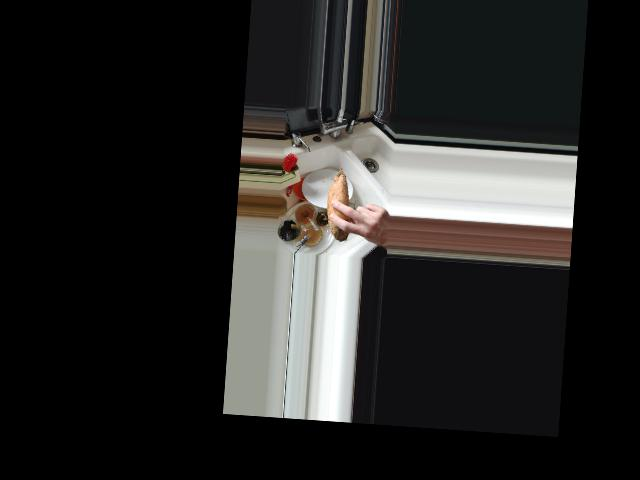sweet_potato: (325, 164, 357, 244)
